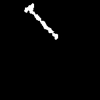half_double_crochet: (25, 4, 57, 38)
